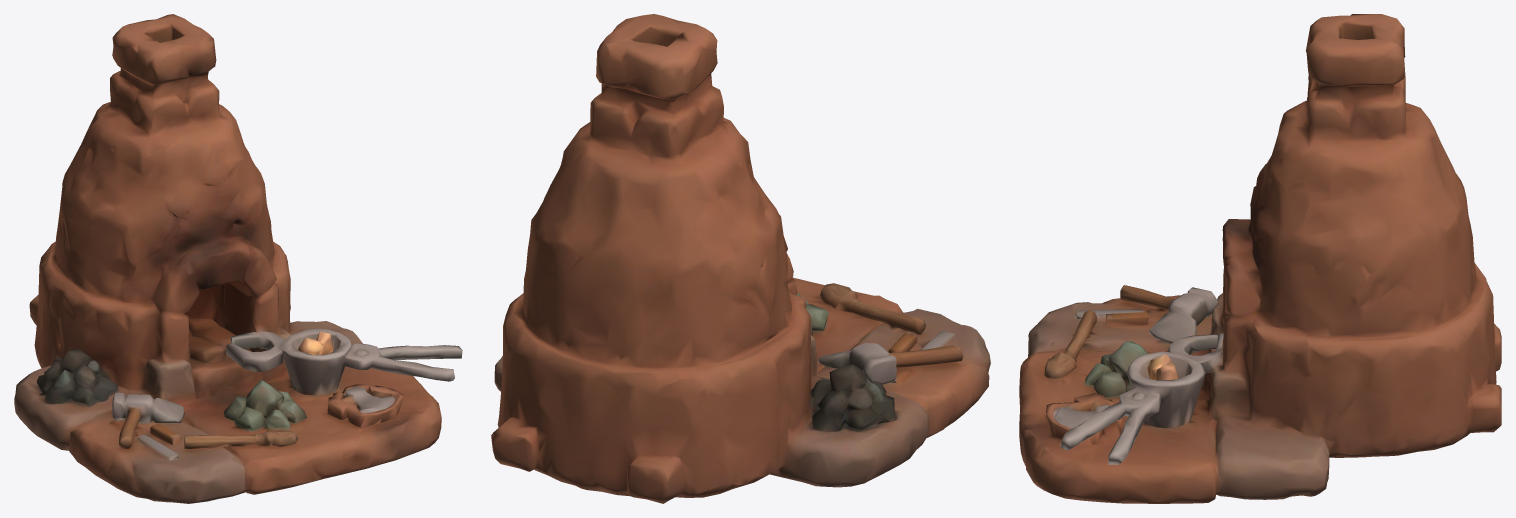
Rendered from craft_market_forge.glb.
The picture shows the model from 3 angles, left to right: view 1: azimuth 30°, elevation 25°; view 2: azimuth 150°, elevation 25°; view 3: azimuth 270°, elevation 25°; orthographic projection. The views are drawn at different scales.
Parts seen in each view (by area): view 1: tripo_node_a7771b73-6a6e-4727-b274-b9e62088ef3b; view 2: tripo_node_a7771b73-6a6e-4727-b274-b9e62088ef3b; view 3: tripo_node_a7771b73-6a6e-4727-b274-b9e62088ef3b.
Part boxes in pixels (box(x1,y1,x2,y2)): tripo_node_a7771b73-6a6e-4727-b274-b9e62088ef3b: box(14, 14, 462, 503); tripo_node_a7771b73-6a6e-4727-b274-b9e62088ef3b: box(491, 14, 990, 503); tripo_node_a7771b73-6a6e-4727-b274-b9e62088ef3b: box(1019, 14, 1501, 503).
Size of the model in its own units: 0.9695 by 0.8884 by 1.
Materials: 1 (1 with a texture image).
